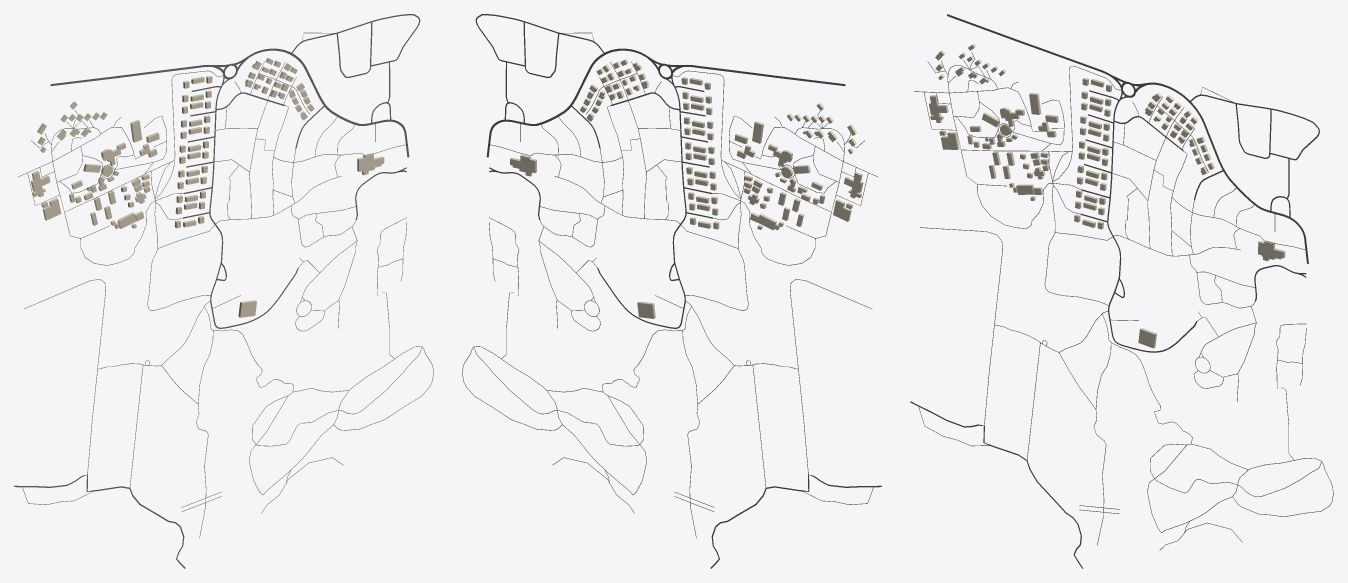
Rendered from historic-palestine-08_30_3502_3245.glb.
3 views of the same model, side by side, from view 1: azimuth 30°, elevation 25°; view 2: azimuth 150°, elevation 25°; view 3: azimuth 330°, elevation 25° (orthographic).
Visible parts, largest first — view 1: Road .004; view 2: Road .004; view 3: Road .004.
Boxes of the visible parts, x1=… form: Road .004: x1=248, y1=48, x2=409, y2=157; Road .004: x1=486, y1=48, x2=647, y2=157; Road .004: x1=1146, y1=82, x2=1308, y2=263.
Size of the model in its own units: 1060 by 1249 by 8.7.
